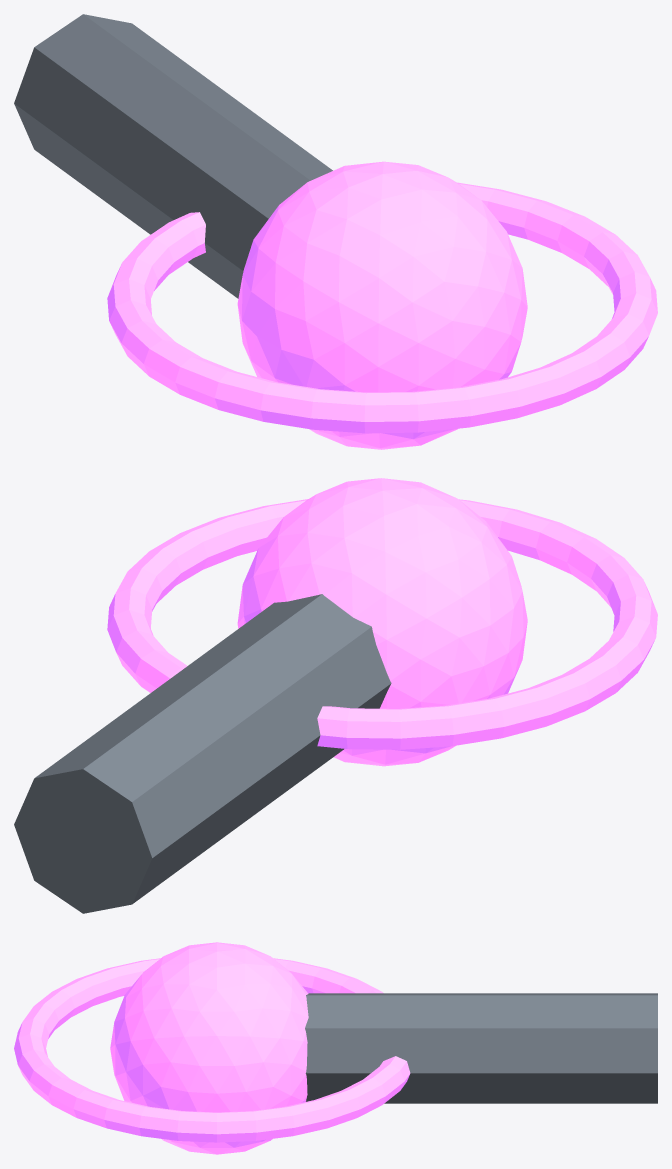
File: magicata_03.glb
The picture shows the model from 3 angles, top to bottom: view 1: azimuth 30°, elevation 25°; view 2: azimuth 150°, elevation 25°; view 3: azimuth 270°, elevation 25°; orthographic projection. The views are drawn at different scales.
Visible parts, largest first — view 1: anomaly, beacon, halo; view 2: beacon, anomaly, halo; view 3: beacon, anomaly, halo.
Part boxes in pixels (bbox=[...]): anomaly: bbox=[237, 161, 527, 449]; beacon: bbox=[14, 14, 332, 298]; halo: bbox=[107, 182, 657, 433]; beacon: bbox=[14, 594, 391, 913]; anomaly: bbox=[237, 478, 527, 766]; halo: bbox=[107, 499, 657, 749]; beacon: bbox=[305, 993, 657, 1103]; anomaly: bbox=[110, 942, 308, 1154]; halo: bbox=[14, 958, 410, 1142].
Size of the model in its own units: 1.52 by 0.8 by 2.41.
